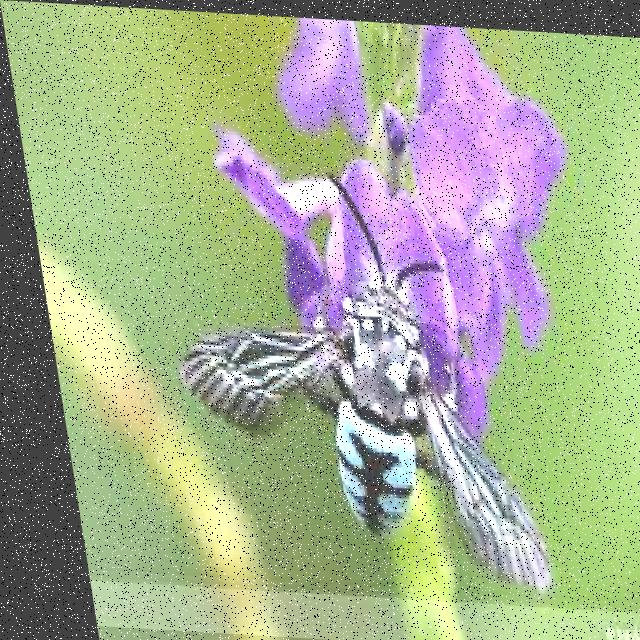Thyreus: (147, 198, 532, 574)
